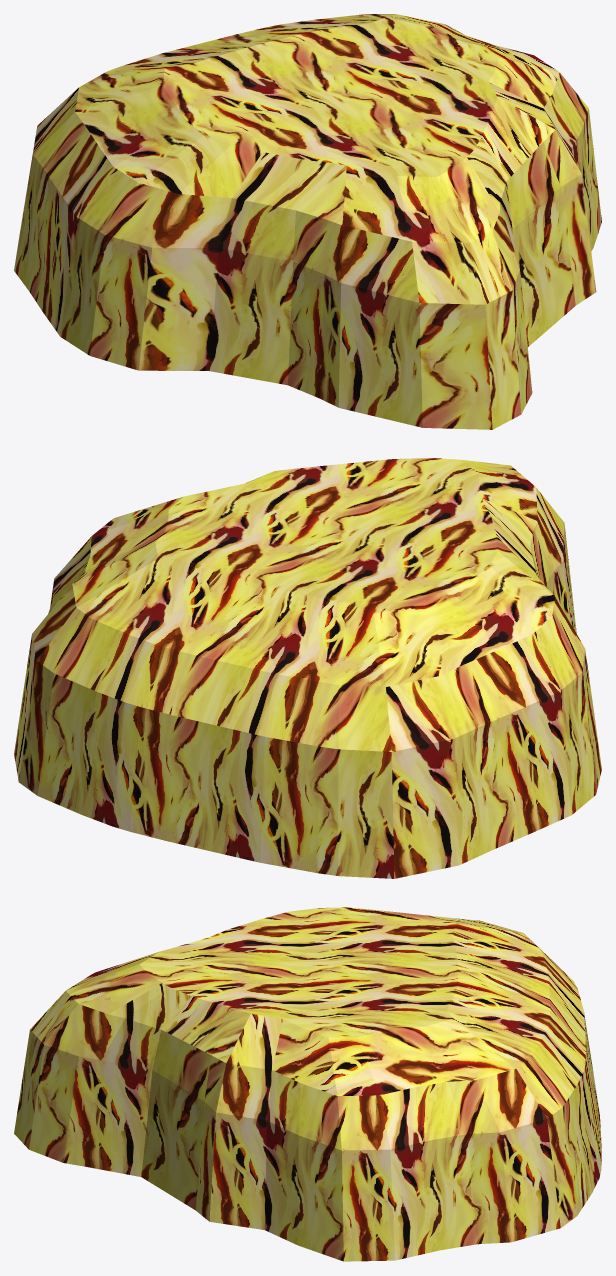
Rendered from Test_Arena2.fbx.
The picture shows the model from 3 angles, top to bottom: view 1: azimuth 30°, elevation 25°; view 2: azimuth 150°, elevation 25°; view 3: azimuth 270°, elevation 25°; orthographic projection. The views are drawn at different scales.
Visible parts, largest first — view 1: pPlane1; view 2: pPlane1; view 3: pPlane1.
Part boxes in pixels (bbox=[...]): pPlane1: bbox=[14, 14, 601, 429]; pPlane1: bbox=[14, 458, 601, 878]; pPlane1: bbox=[14, 907, 601, 1261].
Bounding box in the file's own units: 30.61 × 11.28 × 33.47.
Materials: 1 (1 with a texture image).
